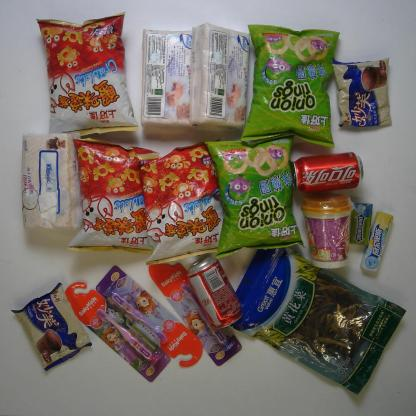Candy: (360, 211, 394, 273)
Dessert: (11, 283, 94, 370), (331, 56, 392, 128)
Dried Food: (230, 247, 407, 397)
Drink: (187, 258, 241, 329), (291, 152, 365, 193)
Gum: (349, 200, 373, 246)
Instant Drink: (300, 193, 352, 269)
Personal Hygiene: (94, 265, 205, 367), (64, 282, 170, 382), (147, 262, 241, 366)
Puffed Food: (36, 12, 140, 135), (204, 137, 304, 260), (241, 24, 340, 147), (138, 144, 230, 266), (66, 137, 159, 257)
Tissue: (189, 22, 250, 134), (22, 132, 80, 230), (142, 28, 194, 130)
